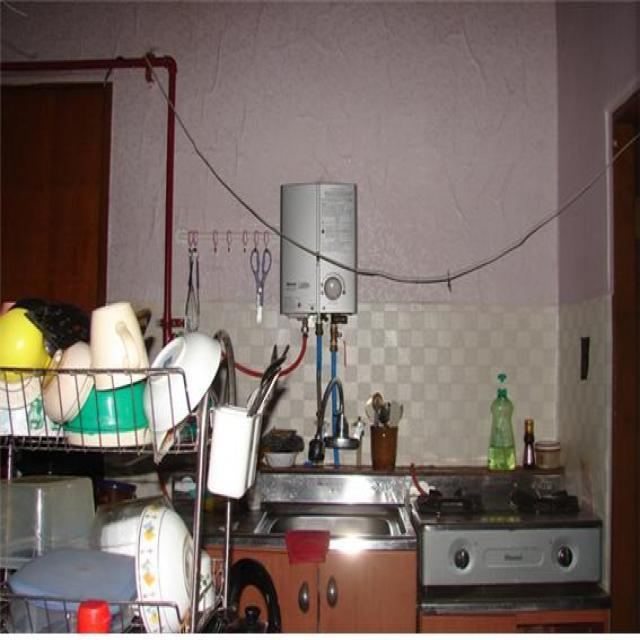Boiler: (280, 176, 364, 324)
